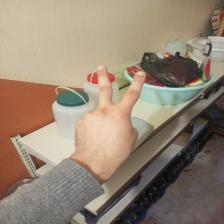two: (76, 66, 147, 175)
